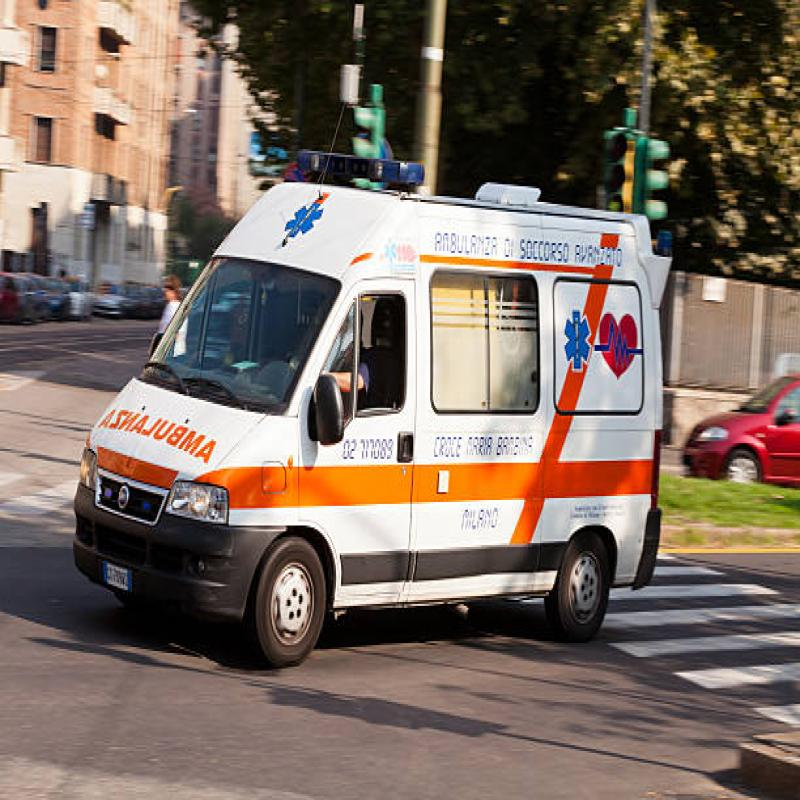ambulance: (69, 114, 678, 661)
